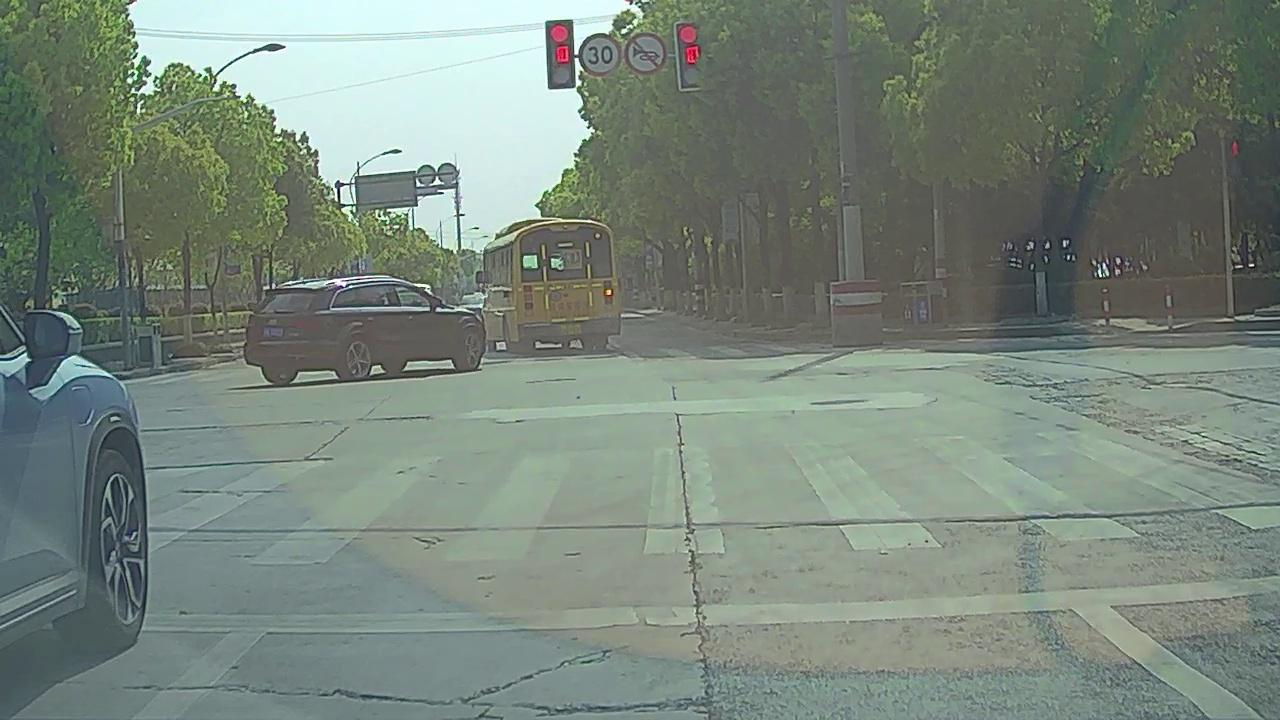traffic_light: (676, 21, 706, 90), (546, 21, 574, 87)
